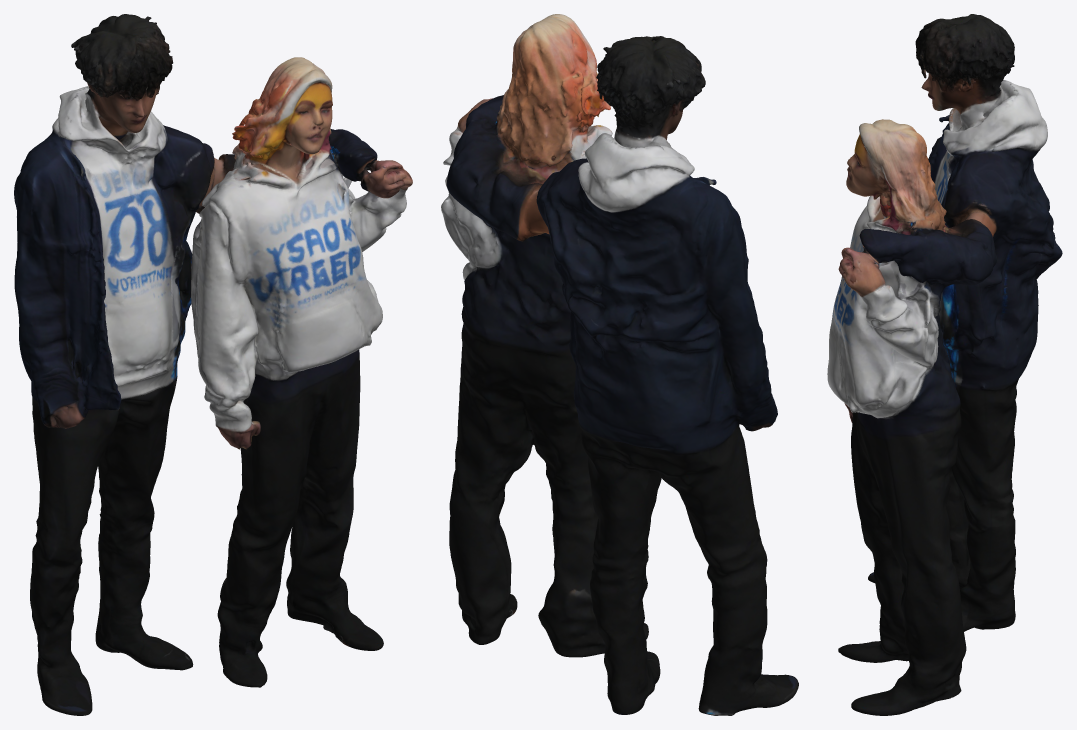
Rendered from Fashion_Duo_0401103937_texture.glb.
3 renders of one model, left to right at view 1: azimuth 30°, elevation 25°; view 2: azimuth 150°, elevation 25°; view 3: azimuth 270°, elevation 25°, orthographic. The views are drawn at different scales.
Bounding box in the file's own units: 1.13 × 2 × 0.7021.
Materials: 1 (1 with a texture image).
